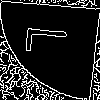L: (25, 24, 78, 57)
